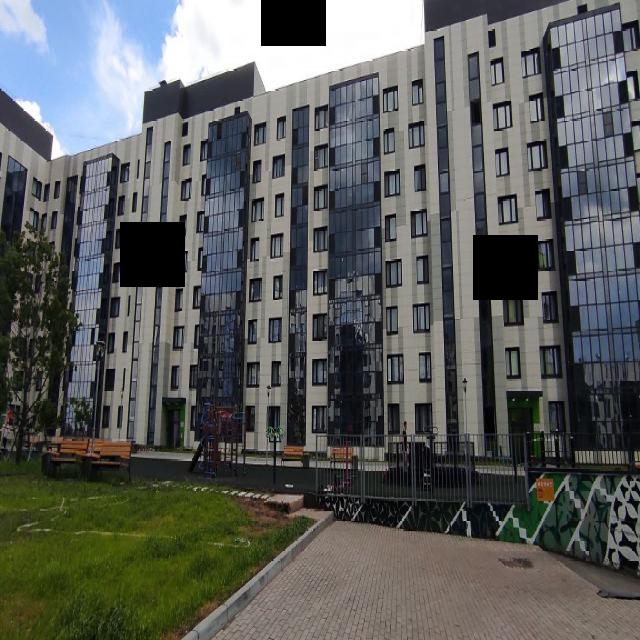Building: (0, 0, 640, 453)
